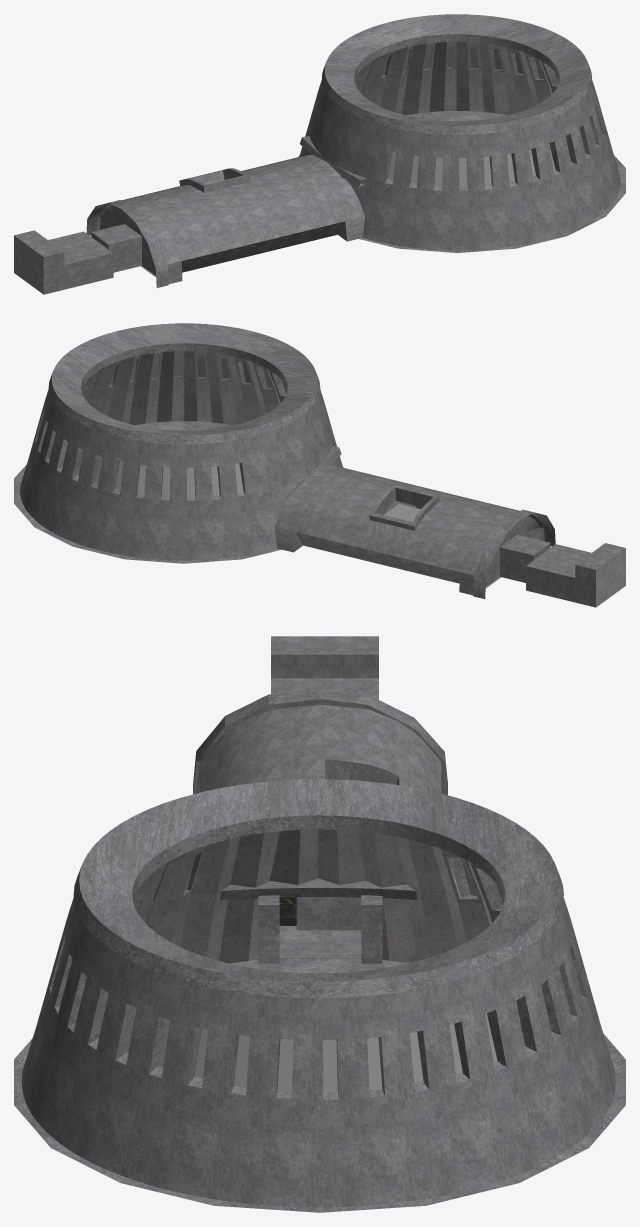
The model's file is ExampleAssets.FBX.
The picture shows the model from 3 angles, top to bottom: view 1: azimuth 30°, elevation 25°; view 2: azimuth 150°, elevation 25°; view 3: azimuth 270°, elevation 25°; orthographic projection. The views are drawn at different scales.
Visible parts, largest first — view 1: MainRoom_Wall, FirstRoom_Main, MainRoom_Roof, LastRoom_Main, MainRoom_Glass, MainRoom_Main, FirstRoom_SunRoofTrim, MainRoom_EntranceFrame; view 2: MainRoom_Wall, FirstRoom_Main, MainRoom_Roof, LastRoom_Main, MainRoom_Glass, MainRoom_Main, FirstRoom_SunRoofTrim, MainRoom_EntranceFrame, FirstRoom_Glass; view 3: MainRoom_Wall, MainRoom_Roof, FirstRoom_Main, LastRoom_Main, MainRoom_Main, MainRoom_EntranceFrame, MainRoom_Glass, FirstRoom_Wall_01, FirstRoom_SunRoofTrim.
Part boxes in pixels (x1=…): MainRoom_Wall: x1=299, y1=42, x2=620, y2=250; FirstRoom_Main: x1=109, y1=154, x2=364, y2=284; MainRoom_Roof: x1=322, y1=14, x2=591, y2=134; LastRoom_Main: x1=14, y1=200, x2=168, y2=294; MainRoom_Glass: x1=383, y1=46, x2=570, y2=187; MainRoom_Main: x1=298, y1=111, x2=625, y2=252; FirstRoom_SunRoofTrim: x1=179, y1=168, x2=249, y2=192; MainRoom_EntranceFrame: x1=300, y1=136, x2=366, y2=186; MainRoom_Wall: x1=20, y1=351, x2=342, y2=560; FirstRoom_Main: x1=275, y1=465, x2=532, y2=595; MainRoom_Roof: x1=48, y1=323, x2=320, y2=444; LastRoom_Main: x1=473, y1=509, x2=625, y2=607; MainRoom_Glass: x1=77, y1=355, x2=286, y2=497; MainRoom_Main: x1=14, y1=421, x2=343, y2=563; FirstRoom_SunRoofTrim: x1=369, y1=485, x2=439, y2=530; MainRoom_EntranceFrame: x1=274, y1=446, x2=341, y2=497; FirstRoom_Glass: x1=384, y1=504, x2=420, y2=521; MainRoom_Wall: x1=21, y1=829, x2=615, y2=1207; MainRoom_Roof: x1=73, y1=779, x2=563, y2=998; FirstRoom_Main: x1=196, y1=704, x2=444, y2=952; LastRoom_Main: x1=193, y1=636, x2=447, y2=795; MainRoom_Main: x1=14, y1=958, x2=625, y2=1212; MainRoom_EntranceFrame: x1=220, y1=878, x2=416, y2=963; MainRoom_Glass: x1=98, y1=858, x2=503, y2=1093; FirstRoom_Wall_01: x1=296, y1=897, x2=361, y2=930; FirstRoom_SunRoofTrim: x1=317, y1=755, x2=407, y2=786.
Bounding box in the file's own units: 77.41 × 14.34 × 39.39.
9 materials, 8 textured.
